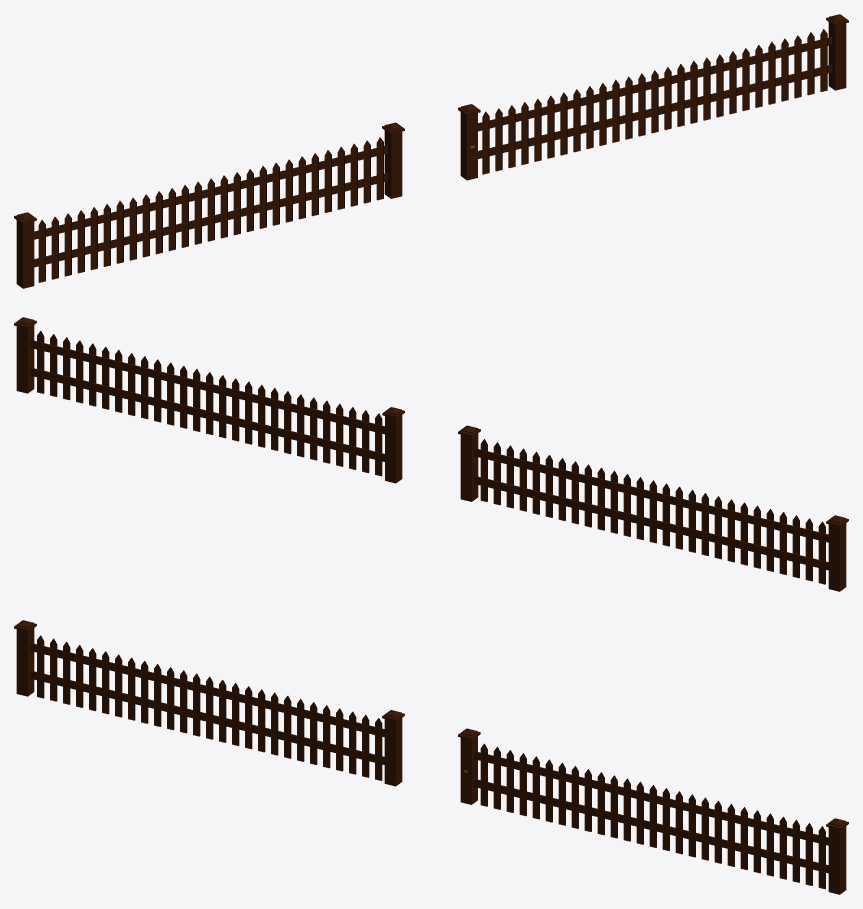
The model's file is Fence Entrance 3.fbx.
3 renders of one model, top to bottom at view 1: azimuth 30°, elevation 25°; view 2: azimuth 150°, elevation 25°; view 3: azimuth 330°, elevation 25°, orthographic.
Parts seen in each view (by area): view 1: Cube.004, Cube.008, Cube.002, Cube.006, Cube.007, Cube.009, Cube, Cube.003; view 2: Cube.004, Cube.008, Cube.006, Cube.002, Cube.007, Cube.009, Cube, Cube.003; view 3: Cube.004, Cube.008, Cube.002, Cube.006, Cube.003, Cube.009, Cube.007, Cube.
Part boxes in pixels (x1,y1,x2,y2): Cube.004: (482,29,827,174); Cube.008: (38,137,383,282); Cube.002: (478,37,832,158); Cube.006: (34,145,388,267); Cube.007: (14,212,36,288); Cube.009: (382,122,404,198); Cube: (458,104,480,180); Cube.003: (826,14,848,90); Cube.004: (37,331,382,476); Cube.008: (480,439,825,584); Cube.006: (474,448,828,570); Cube.002: (30,340,384,461); Cube.007: (826,515,848,591); Cube.009: (458,425,480,501); Cube: (382,407,404,483); Cube.003: (14,317,36,393); Cube.004: (480,743,825,889); Cube.008: (37,635,382,780); Cube.002: (474,751,828,873); Cube.006: (30,643,384,764); Cube.003: (826,818,848,894); Cube.009: (382,710,404,786); Cube.007: (14,620,36,696); Cube: (458,728,480,804).
Size of the model in its own units: 37.17 by 3.07 by 0.6538.
